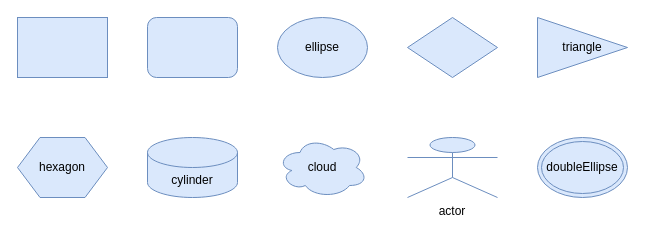
This 645x236 diagram has some shape labels left out. Here are the shapes that lost their labels. From the top down, the centre of each, then its label:
At point (62, 47): "rectangle".
At point (192, 47): "rounded".
At point (452, 47): "rhombus".
